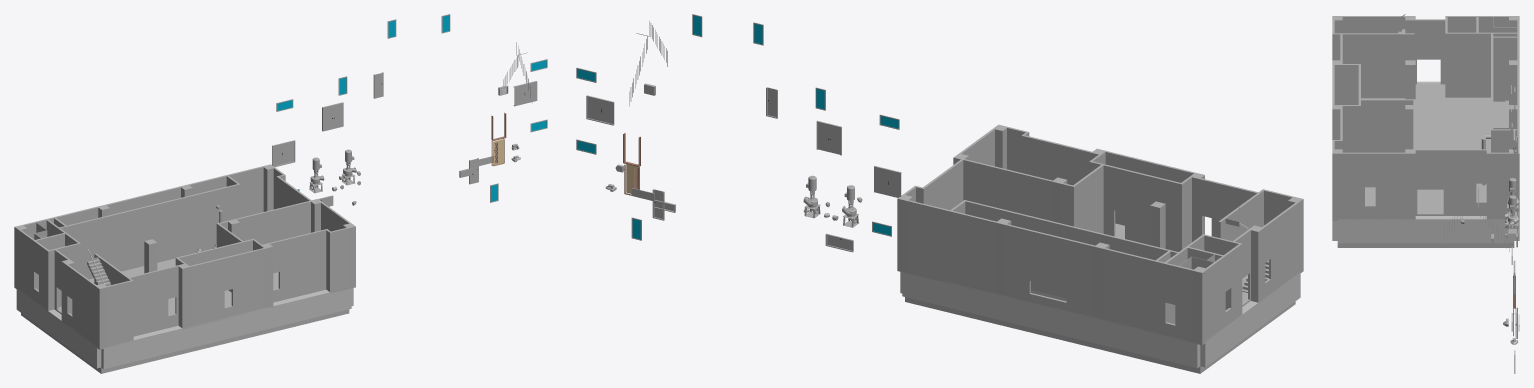
File: NewProject_3.gltf
3 views of the same model, side by side, from view 1: azimuth 30°, elevation 25°; view 2: azimuth 150°, elevation 25°; view 3: azimuth 270°, elevation 25° (orthographic). The views are drawn at different scales.
Visible parts, largest first — view 1: Wall Walls <252483 RC18cm>, Wall Walls <256486 RC18cm>, Wall Walls <221061 RC18cm>, Wall Walls <251564 RC18cm>, Wall Walls <256345 RC18cm>, Wall Walls <221753 RC18cm>, FamilySymbol Columns <334135 FG9>, FamilySymbol Columns <334111 FG7>, FamilySymbol Columns <334099 FG8>, Wall Walls <250459 RC18cm>, Wall Walls <222811 RC18cm>, Wall Walls <220513 RC18cm> (+19 smaller); view 2: Wall Walls <221061 RC18cm>, Wall Walls <251922 RC18cm>, Wall Walls <221753 RC18cm>, Wall Walls <252483 RC18cm>, FamilySymbol Columns <334123 FG3>, FamilySymbol Columns <334063 FG2>, FamilySymbol Columns <334051 FG1>, Wall Walls <251564 RC18cm>, Wall Walls <222811 RC18cm>, Wall Walls <250459 RC18cm>, Wall Walls <221713 RC18cm>, Wall Walls <256345 RC18cm> (+22 smaller); view 3: Wall Walls <284461 RC18cm>, Wall Walls <284290 RC18cm>, Wall Walls <253038 RC18cm>, Floor Floors <334376 250*7900>, Wall Walls <222985 RC18cm>, FamilySymbol Columns <334147 FG10>, Wall Walls <221713 RC18cm>, FamilySymbol Columns <334159 FG11>, Floor Floors <334383 250*7900>, Wall Walls <221322 RC18cm>, Wall Walls <283968 RC18cm>, Wall Walls <223146 RC18cm> (+26 smaller).
Boxes of the visible parts, x1,y1,x2,y2 form: Wall Walls <252483 RC18cm>: (59,184,238,279); Wall Walls <256486 RC18cm>: (190,248,264,325); Wall Walls <221061 RC18cm>: (23,166,263,234); Wall Walls <251564 RC18cm>: (269,229,327,302); Wall Walls <256345 RC18cm>: (129,265,178,336); Wall Walls <221753 RC18cm>: (219,201,310,244); FamilySymbol Columns <334135 FG9>: (101,325,186,368); FamilySymbol Columns <334111 FG7>: (269,288,351,328); FamilySymbol Columns <334099 FG8>: (186,307,268,348); Wall Walls <250459 RC18cm>: (66,264,96,344); Wall Walls <222811 RC18cm>: (19,230,48,309); Wall Walls <220513 RC18cm>: (107,280,133,346); Wall Walls <221061 RC18cm>: (907,200,1193,339); Wall Walls <251922 RC18cm>: (1089,161,1183,251); Wall Walls <221753 RC18cm>: (963,159,1072,225); Wall Walls <252483 RC18cm>: (965,200,1178,296); FamilySymbol Columns <334123 FG3>: (1099,318,1200,368); FamilySymbol Columns <334063 FG2>: (1000,294,1098,344); FamilySymbol Columns <334051 FG1>: (902,272,1000,320); Wall Walls <251564 RC18cm>: (1021,135,1091,185); Wall Walls <222811 RC18cm>: (1206,244,1241,339); Wall Walls <250459 RC18cm>: (1262,202,1297,298); Wall Walls <221713 RC18cm>: (1071,165,1103,233); Wall Walls <256345 RC18cm>: (1199,178,1257,237); Wall Walls <284461 RC18cm>: (1342,152,1405,219); Wall Walls <284290 RC18cm>: (1413,149,1488,215); Wall Walls <253038 RC18cm>: (1334,33,1414,98); Floor Floors <334376 250*7900>: (1415,83,1508,126); Wall Walls <222985 RC18cm>: (1447,32,1517,98); FamilySymbol Columns <334147 FG10>: (1410,216,1514,243); Wall Walls <221713 RC18cm>: (1361,99,1415,152); FamilySymbol Columns <334159 FG11>: (1337,219,1410,243); Floor Floors <334383 250*7900>: (1415,126,1508,152); Wall Walls <221322 RC18cm>: (1486,152,1508,219); Wall Walls <283968 RC18cm>: (1415,19,1445,84); Wall Walls <223146 RC18cm>: (1493,36,1517,101).
Bounding box in the file's own units: 51210 × 19070 × 14255.
